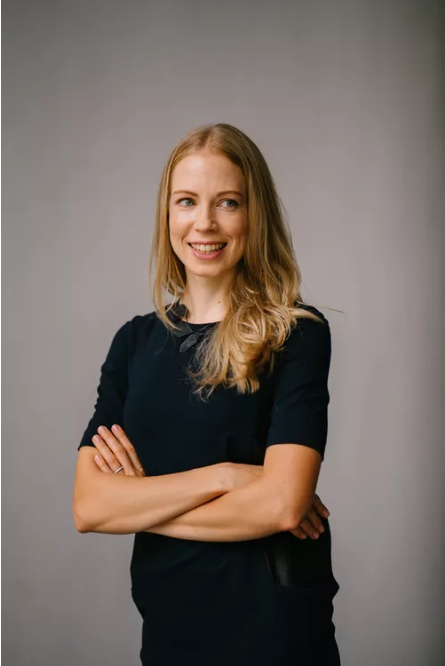face: (170, 153, 246, 276)
